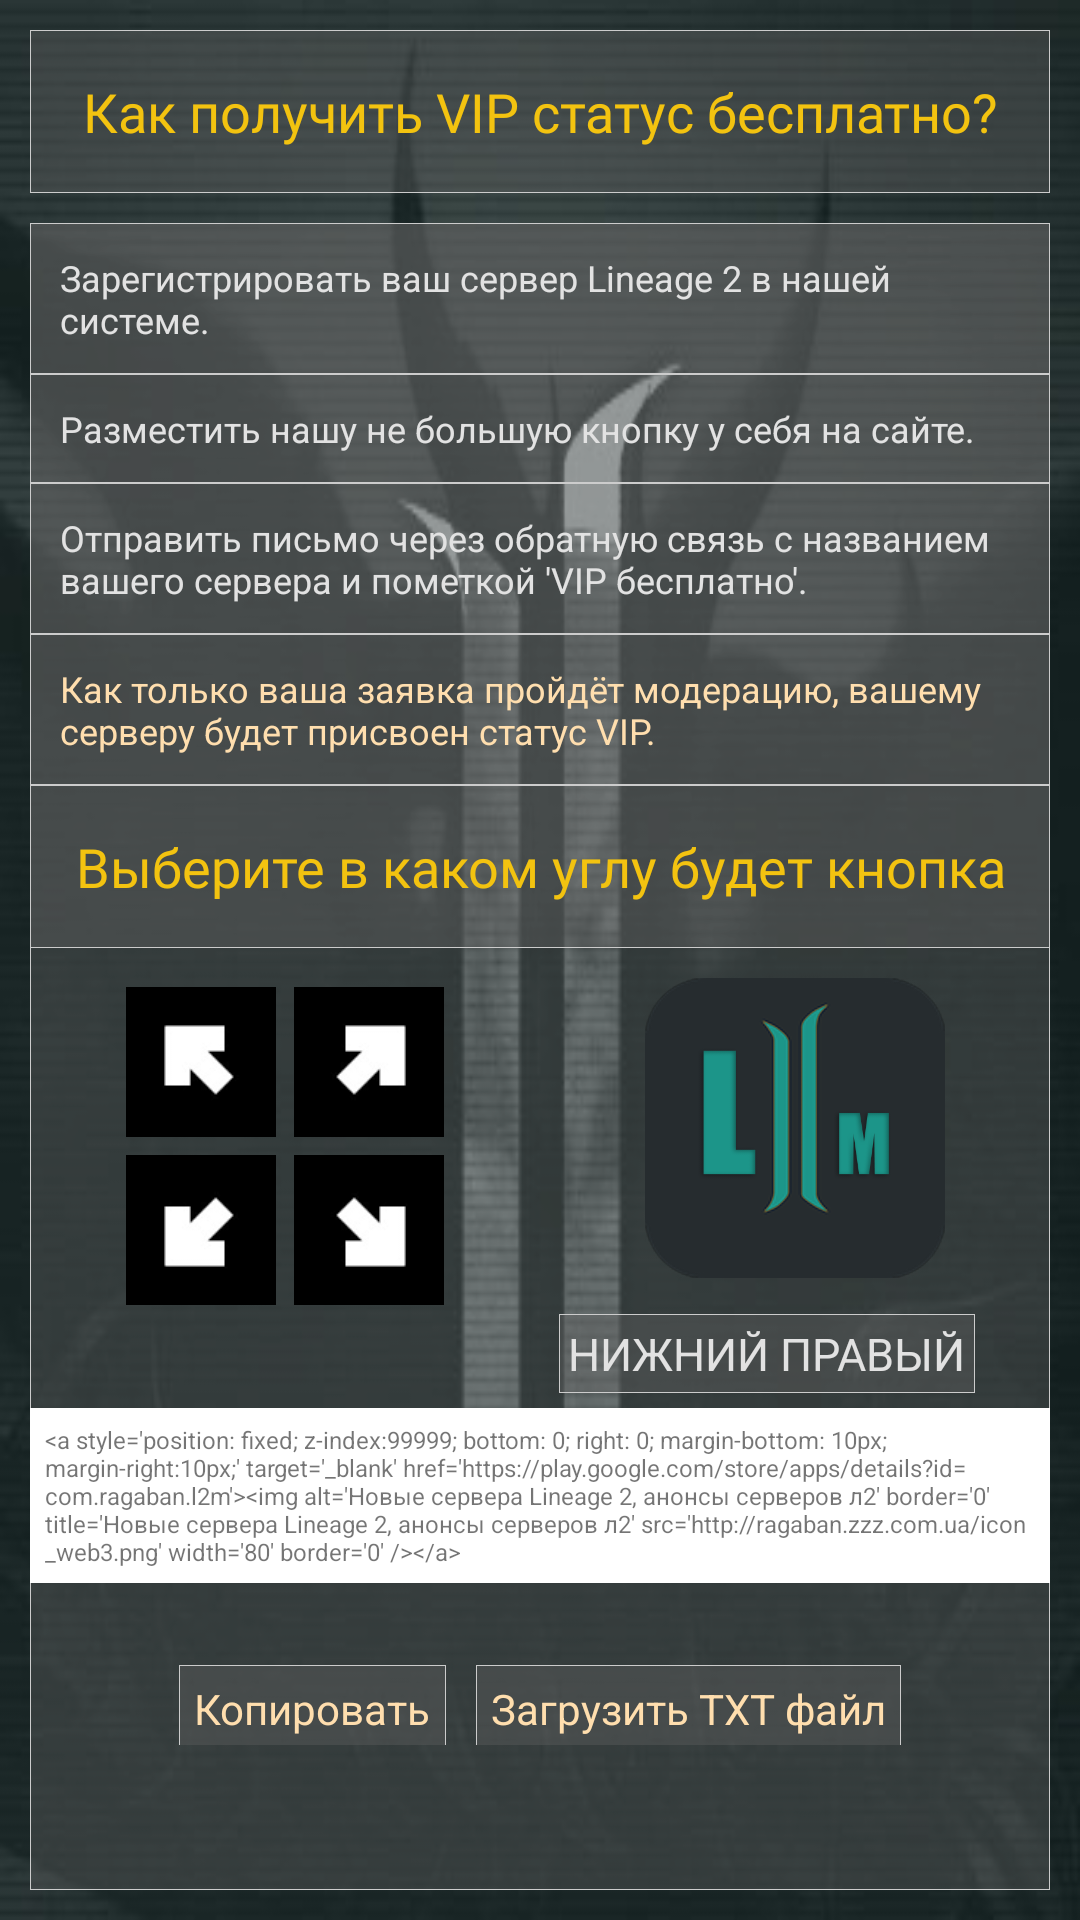

Icons on this 1080 x 1920 Android screen, each with its box as {"left": x1, "top": y1, "right": x2, "bottom": y2}:
left bottom: {"left": 126, "top": 1155, "right": 276, "bottom": 1305}
left top: {"left": 126, "top": 987, "right": 276, "bottom": 1137}
